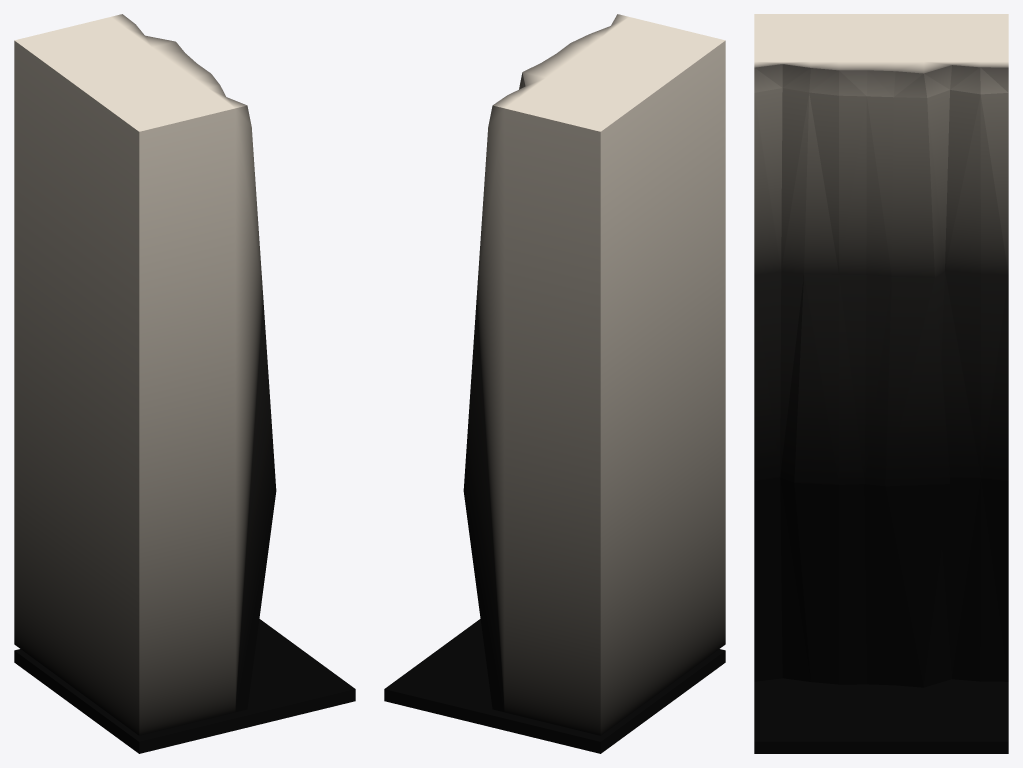
Rendered from SM_VKI_Ground_Cave_OXXO_Q11.fbx.
3 views of the same model, side by side, from view 1: azimuth 30°, elevation 25°; view 2: azimuth 150°, elevation 25°; view 3: azimuth 270°, elevation 25° (orthographic).
Visible parts, largest first — view 1: SM_VKI_Ground_Cave_OXXO_Q11.001; view 2: SM_VKI_Ground_Cave_OXXO_Q11.001; view 3: SM_VKI_Ground_Cave_OXXO_Q11.001.
Part boxes in pixels (bbox=[...]): SM_VKI_Ground_Cave_OXXO_Q11.001: bbox=[14, 14, 355, 753]; SM_VKI_Ground_Cave_OXXO_Q11.001: bbox=[384, 14, 725, 753]; SM_VKI_Ground_Cave_OXXO_Q11.001: bbox=[754, 14, 1008, 753].
Bounding box in the file's own units: 1.5 × 4.12 × 1.5.
